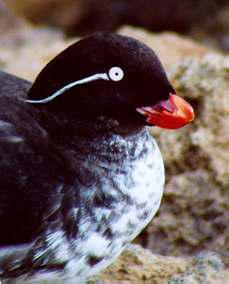007.Parakeet_Auklet: (1, 34, 195, 284)
